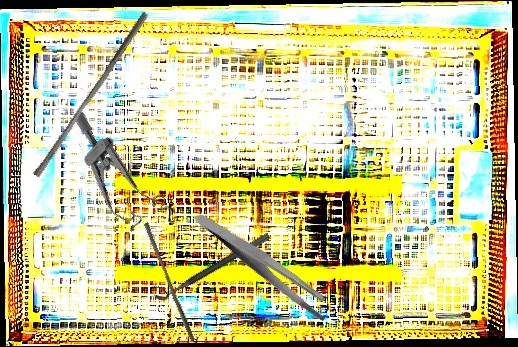Dressing Forceps: (192, 184, 337, 346)
Fixation Ring: (149, 223, 272, 304)
Pusher: (32, 7, 150, 182), (139, 221, 200, 343)
Speculum: (42, 109, 179, 241)
